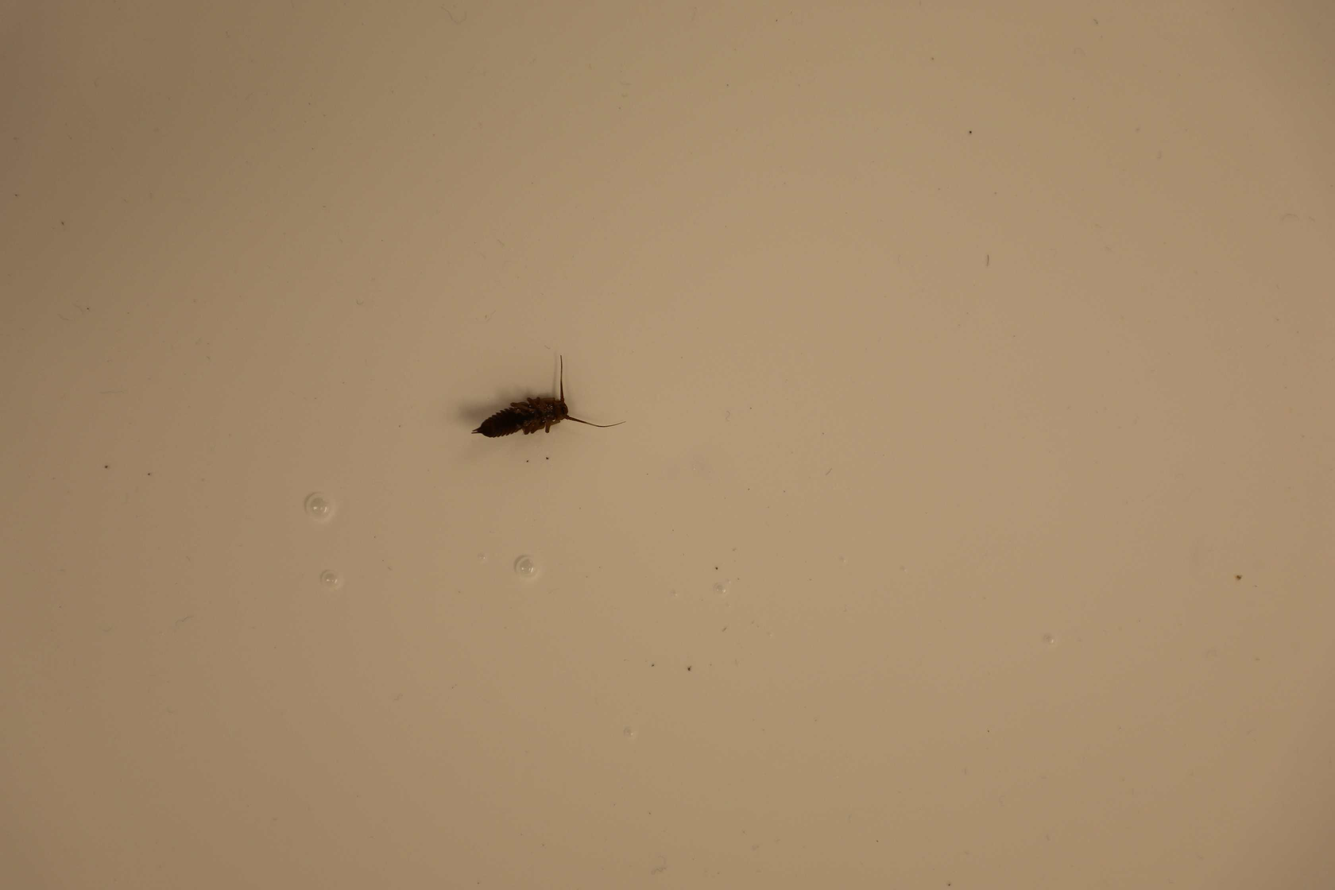Stonefly: (471, 353, 621, 456)
